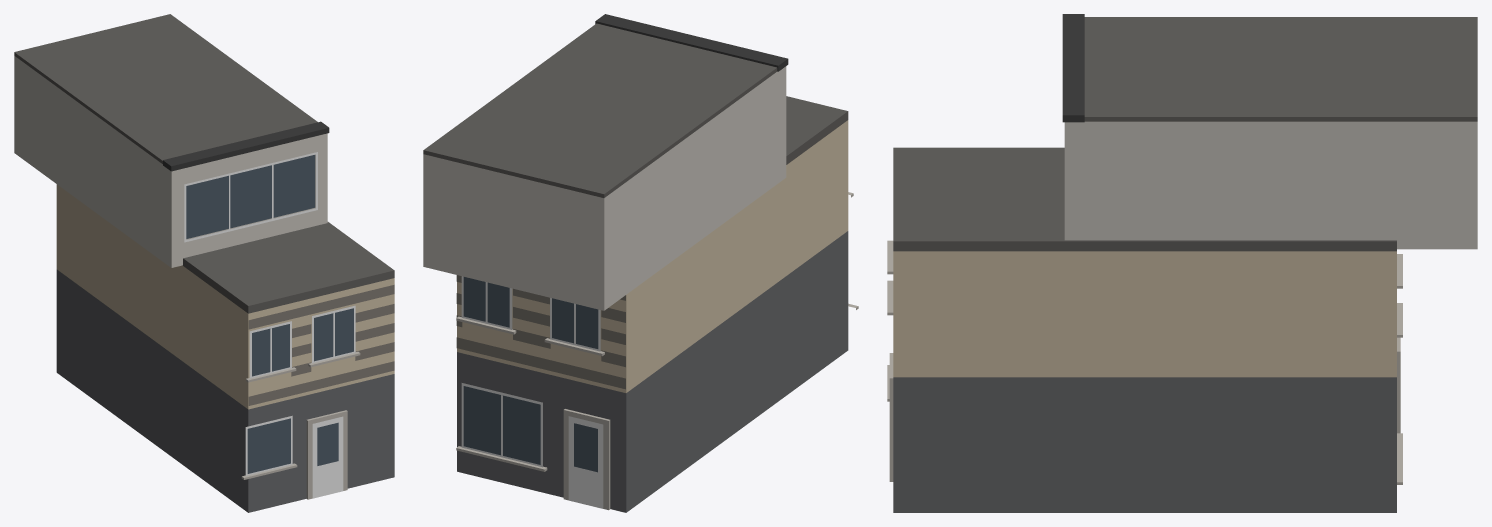
Rendered from nd-tw-flat-top__striped__2__flat__long__solid__mirror.glb.
3 renders of one model, left to right at view 1: azimuth 30°, elevation 25°; view 2: azimuth 150°, elevation 25°; view 3: azimuth 270°, elevation 25°, orthographic. The views are drawn at different scales.
Parts seen in each view (by area): view 1: nd-tw-flat-top__striped__2__flat__long__solid__mirror; view 2: nd-tw-flat-top__striped__2__flat__long__solid__mirror; view 3: nd-tw-flat-top__striped__2__flat__long__solid__mirror.
Part boxes in pixels (x1,y1,x2,y2): nd-tw-flat-top__striped__2__flat__long__solid__mirror: [14, 14, 394, 512]; nd-tw-flat-top__striped__2__flat__long__solid__mirror: [423, 14, 858, 512]; nd-tw-flat-top__striped__2__flat__long__solid__mirror: [887, 14, 1477, 512].
Bounding box in the file's own units: 4.78 × 8.7 × 11.72.
